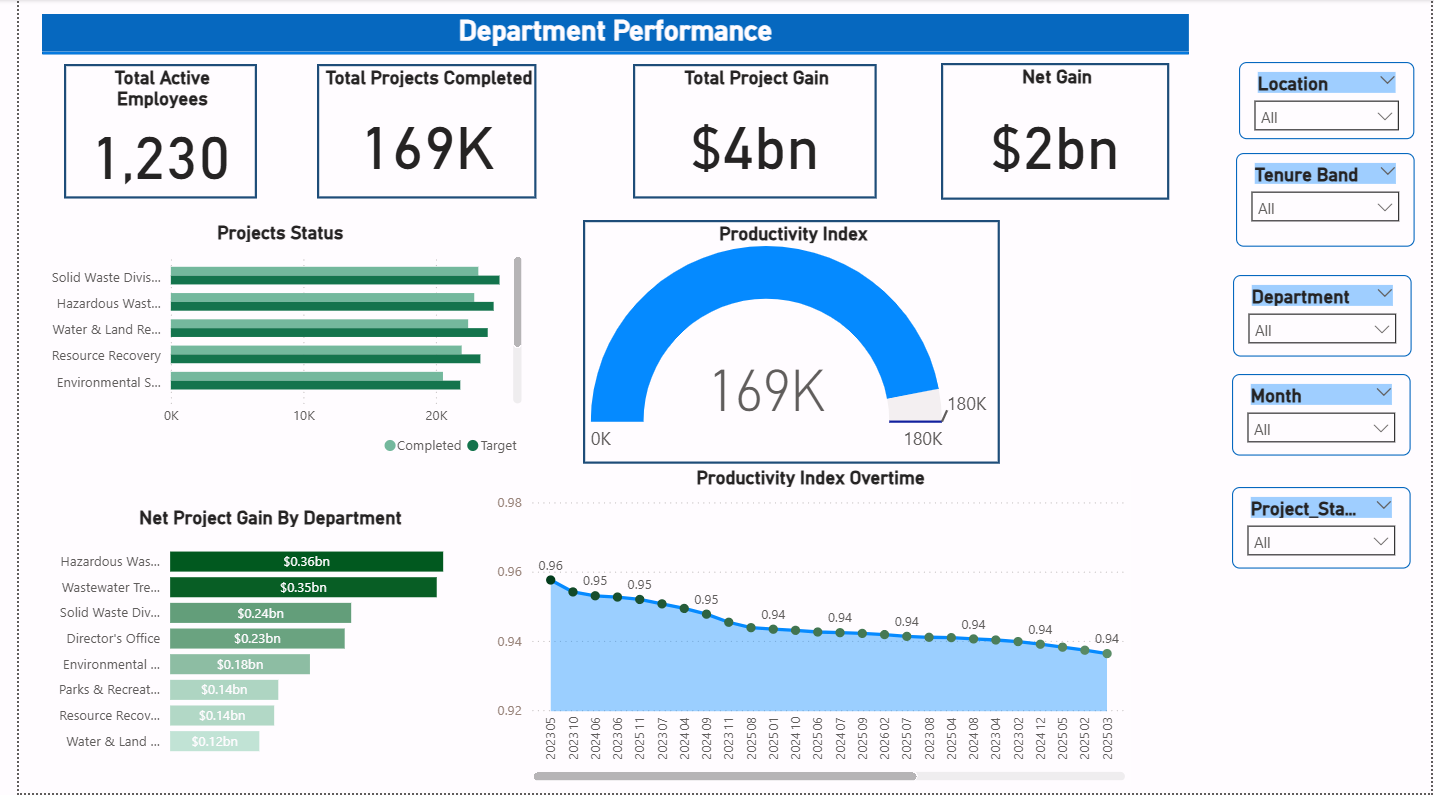

The page's visual inventory and layout, read from the dashboard file:
{"tool":"powerbi","page":{"name":"Executive Summary","canvas":[1280,720],"ordinal":0},"visuals":[{"type":"card","title":"Total Active Employees","fields":{"Values":["employee_performance.Active Employees"]},"box":[40.4,58.8,174.6,122.2],"z":0},{"type":"card","title":"Total Projects Completed","fields":{"Values":["Sum(employee_performance.Completed)"]},"box":[270.2,58.8,199.4,122.2],"z":1000},{"type":"card","title":"Total Project Gain","fields":{"Values":["employee_performance.Total Project Gain"]},"box":[556.8,58.8,220.5,122.2],"z":2000},{"type":"card","title":"Net Gain","fields":{"Values":["employee_performance.Net Project Value"]},"box":[836.2,57.9,206.7,124],"z":3000},{"type":"gauge","title":"Productivity Index","fields":{"Y":["Sum(Employee performance.Completed)"],"TargetValue":["Sum(Employee performance.Target_Projects)"],"MaxValue":["Sum(Employee performance.Target_Projects)"]},"box":[511.8,200.3,377.7,221.5],"z":4000},{"type":"clusteredBarChart","title":"Projects Status","fields":{"Category":["employee_performance.Department"],"Y":["Sum(employee_performance.Completed)","Sum(employee_performance.Target_Projects)"]},"box":[12.9,201.2,448.4,222.4],"z":5000},{"type":"slicer","fields":{"Values":["employee_performance.Department"]},"box":[1100.8,249.9,161.7,74.4],"z":6000},{"type":"slicer","fields":{"Values":["employee_performance.Location"]},"box":[1106.3,57,159,69.8],"z":7000},{"type":"slicer","fields":{"Values":["employee_performance.Tenure_Band"]},"box":[1103.6,139.7,161.7,85.5],"z":8000},{"type":"clusteredBarChart","title":"Net Project Gain By Department","fields":{"Category":["employee_performance.Department"],"Y":["Employee performance.Net Project Value"]},"box":[19.3,459.4,418.1,237.1],"z":9000},{"type":"areaChart","title":"Productivity Index Overtime","fields":{"Y":["Employee performance.Productivity Index"],"Category":["Employee performance.Month"]},"box":[428.2,423.6,579.8,290.4],"z":10000},{"type":"slicer","fields":{"Values":["Employee performance.Month"]},"box":[1099.9,340,161.7,74.4],"z":11000},{"type":"slicer","fields":{"Values":["Employee performance.Project_Status"]},"box":[1099.9,442.9,161.7,74.4],"z":12000},{"type":"shape","title":"Department Performance","box":[21.1,13.8,1040.2,36.8],"z":13000}]}

Visuals, with their boxes in screenshot pixels (x1, y1, x2, y2), scaled from the page's 1280x720 canvas onto the 1434x795 screenshot:
"Total Active Employees" card: <box>45,65,241,200</box>
"Total Projects Completed" card: <box>303,65,526,200</box>
"Total Project Gain" card: <box>624,65,871,200</box>
"Net Gain" card: <box>937,64,1168,201</box>
"Productivity Index" gauge: <box>573,221,997,466</box>
"Projects Status" clusteredBarChart: <box>14,222,517,468</box>
slicer - employee_performance.Department: <box>1233,276,1414,358</box>
slicer - employee_performance.Location: <box>1239,63,1418,140</box>
slicer - employee_performance.Tenure_Band: <box>1236,154,1418,249</box>
"Net Project Gain By Department" clusteredBarChart: <box>22,507,490,769</box>
"Productivity Index Overtime" areaChart: <box>480,468,1129,788</box>
slicer - Employee performance.Month: <box>1232,375,1413,458</box>
slicer - Employee performance.Project_Status: <box>1232,489,1413,571</box>
"Department Performance" shape: <box>24,15,1189,56</box>
